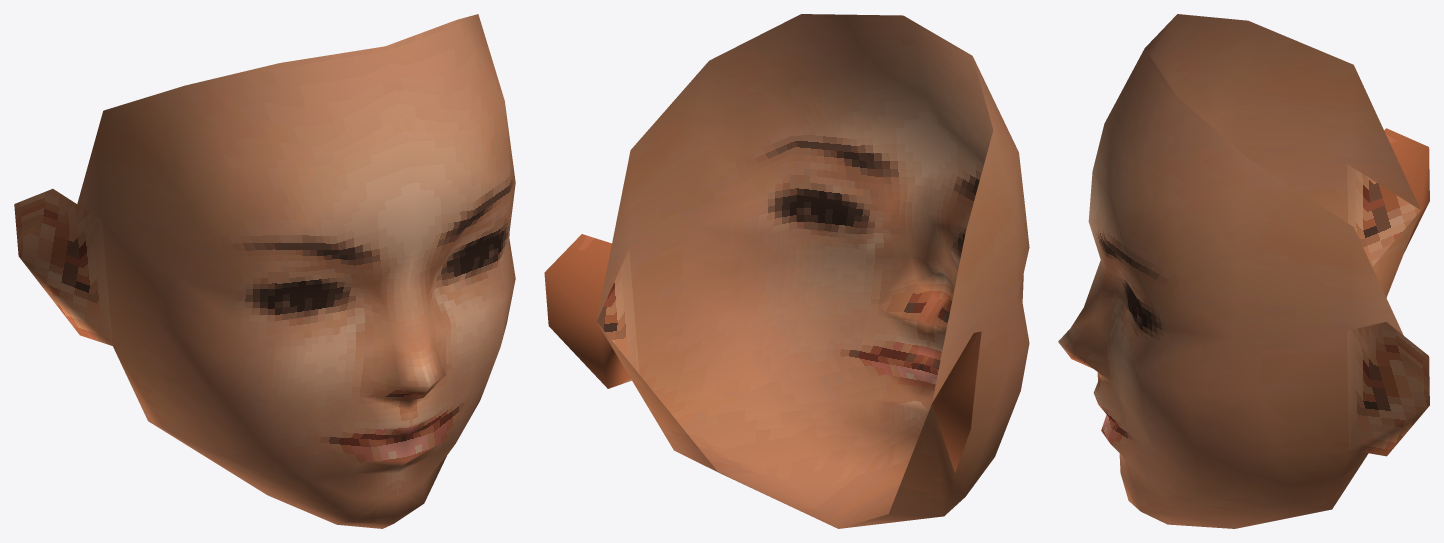
Rendered from f_hair012.glb.
The picture shows the model from 3 angles, left to right: view 1: azimuth 30°, elevation 25°; view 2: azimuth 150°, elevation 25°; view 3: azimuth 270°, elevation 25°; orthographic projection. The views are drawn at different scales.
Bounding box in the file's own units: 19.4 × 20.15 × 14.59.
Materials: 1 (1 with a texture image).
